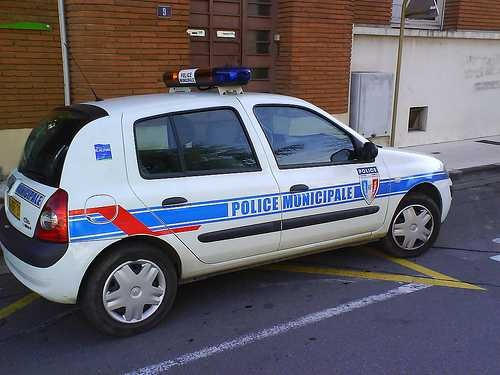Police Car: (6, 70, 457, 314)
